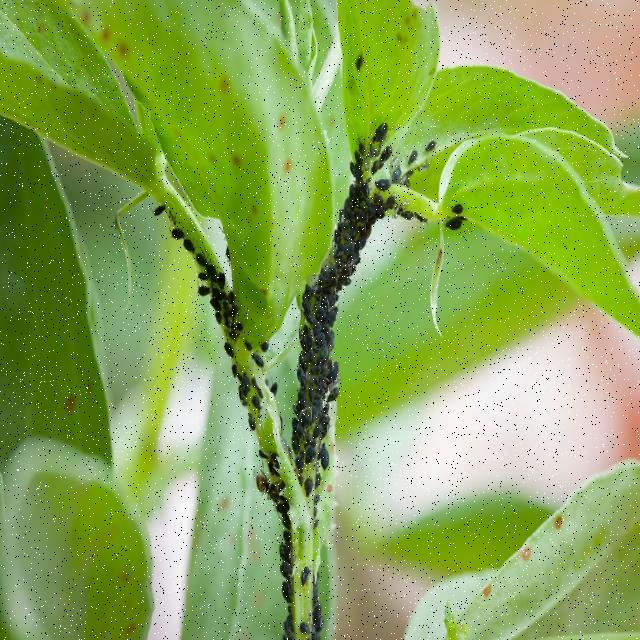Aphids: (145, 195, 174, 227), (444, 209, 473, 241), (219, 334, 241, 374), (164, 220, 187, 250), (244, 391, 264, 421), (227, 357, 245, 385), (450, 191, 466, 218), (303, 282, 319, 309), (180, 239, 197, 261)
